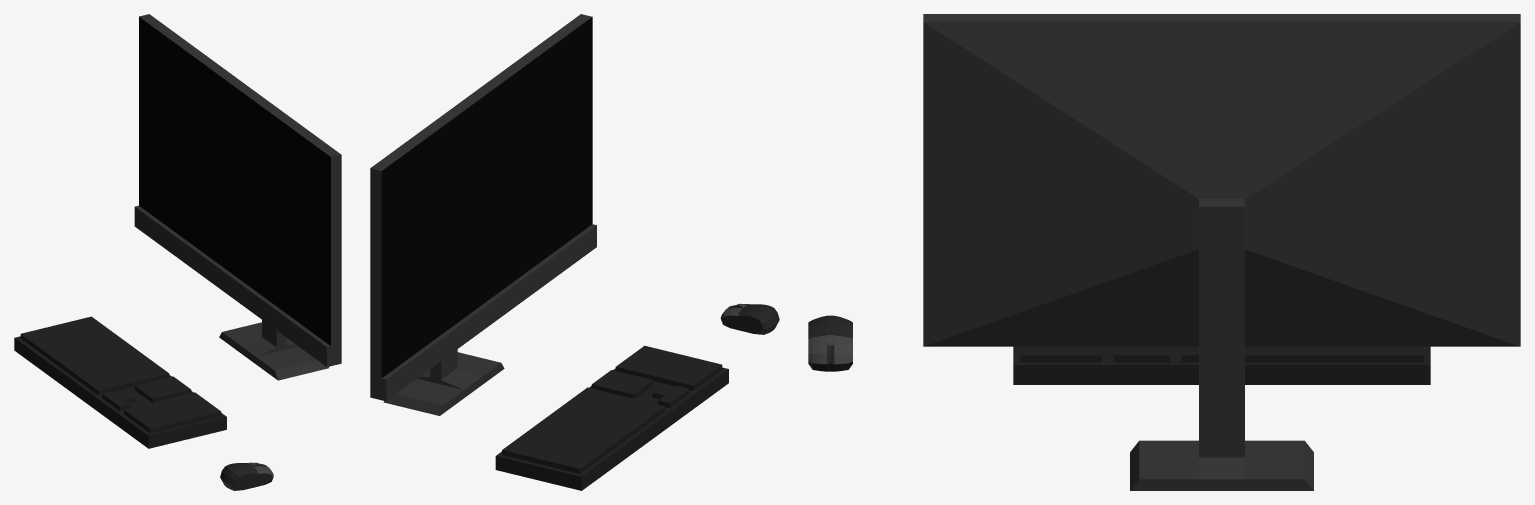
Rendered from pc_setup_single_monitor.glb.
3 views of the same model, side by side, from view 1: azimuth 30°, elevation 25°; view 2: azimuth 150°, elevation 25°; view 3: azimuth 270°, elevation 25° (orthographic). The views are drawn at different scales.
Parts seen in each view (by area): view 1: Cube, Cube.001, Cube.002; view 2: Cube, Cube.001, Cube.002; view 3: Cube, Cube.001, Cube.002.
Boxes of the visible parts, x1,y1,x2,y2 form: Cube: [134, 14, 341, 380]; Cube.001: [14, 316, 226, 448]; Cube.002: [220, 462, 273, 490]; Cube: [370, 14, 596, 415]; Cube.001: [495, 345, 728, 490]; Cube.002: [720, 303, 779, 334]; Cube: [923, 14, 1520, 490]; Cube.001: [1013, 346, 1430, 384]; Cube.002: [808, 315, 852, 371].
Size of the model in its own units: 0.8517 by 1.03 by 1.55.
Materials: 5 (5 with a texture image).
